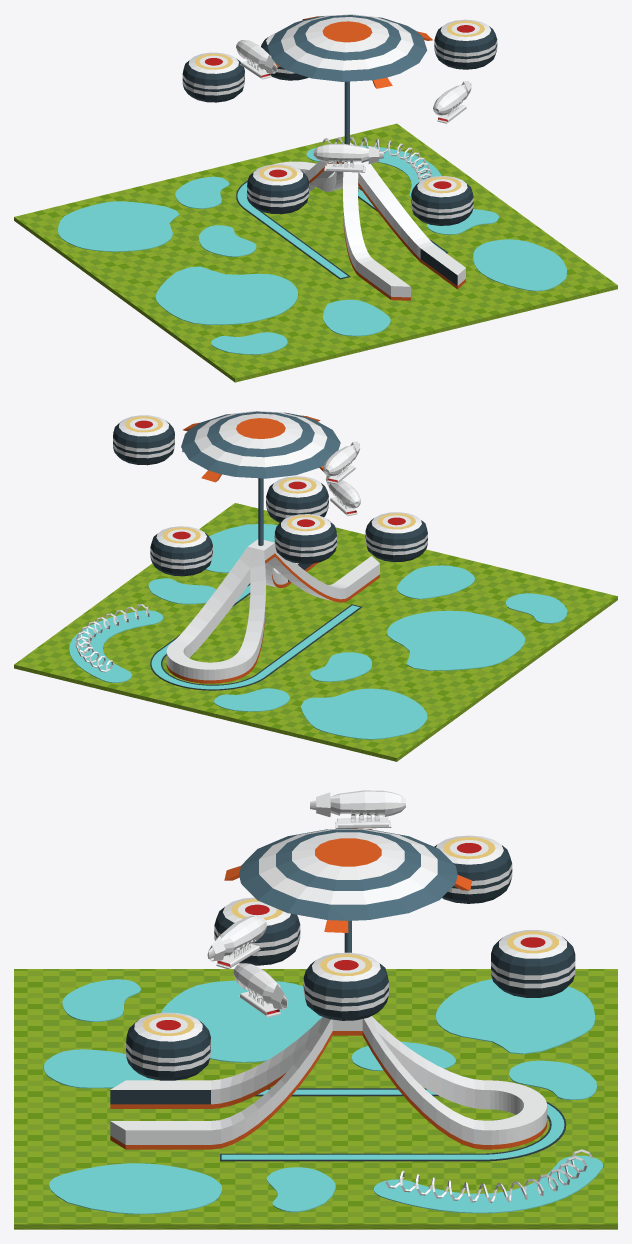
The model's file is D9_Park_2.1.fbx.
3 views of the same model, one above another, from view 1: azimuth 30°, elevation 25°; view 2: azimuth 150°, elevation 25°; view 3: azimuth 270°, elevation 25° (orthographic). The views are drawn at different scales.
Visible parts, largest first — view 1: Cube.031; view 2: Cube.031; view 3: Cube.031.
Part boxes in pixels (x1,y1,x2,y2): Cube.031: (14, 14, 617, 382); Cube.031: (14, 411, 617, 761); Cube.031: (14, 790, 617, 1229).
Bounding box in the file's own units: 20850 × 10741 × 20850.
4 materials, 3 textured.
